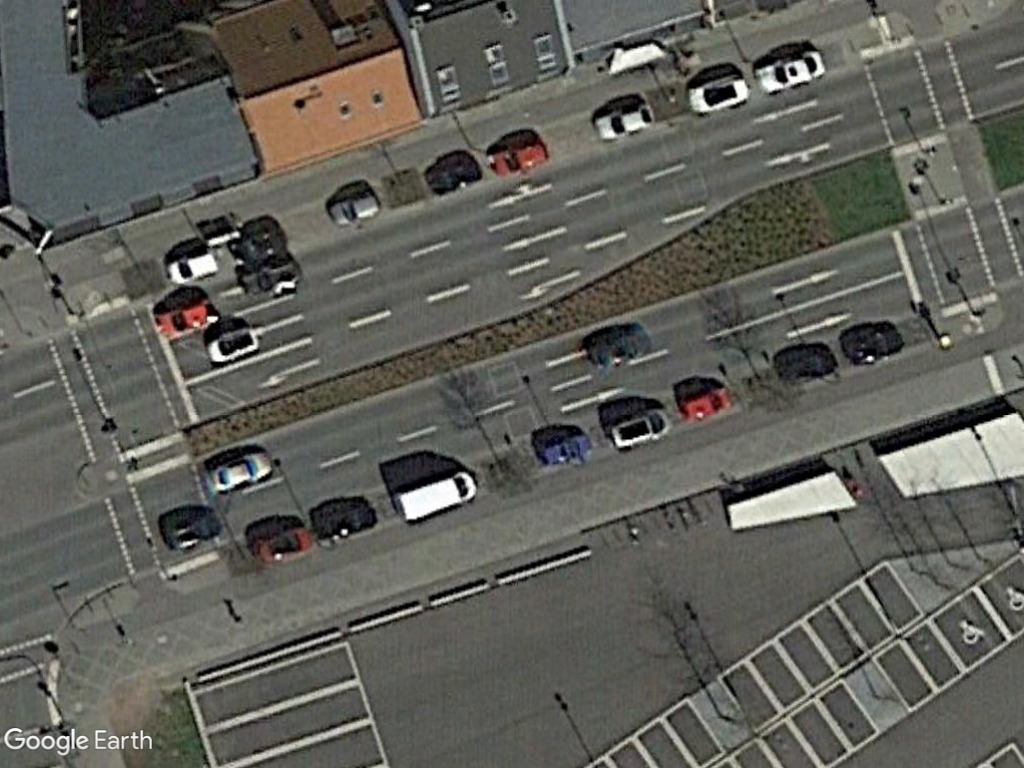car: (750, 48, 830, 94), (588, 99, 659, 144), (206, 448, 273, 494), (485, 134, 551, 180), (325, 188, 380, 230)
van: (390, 467, 480, 526), (165, 249, 221, 287)
